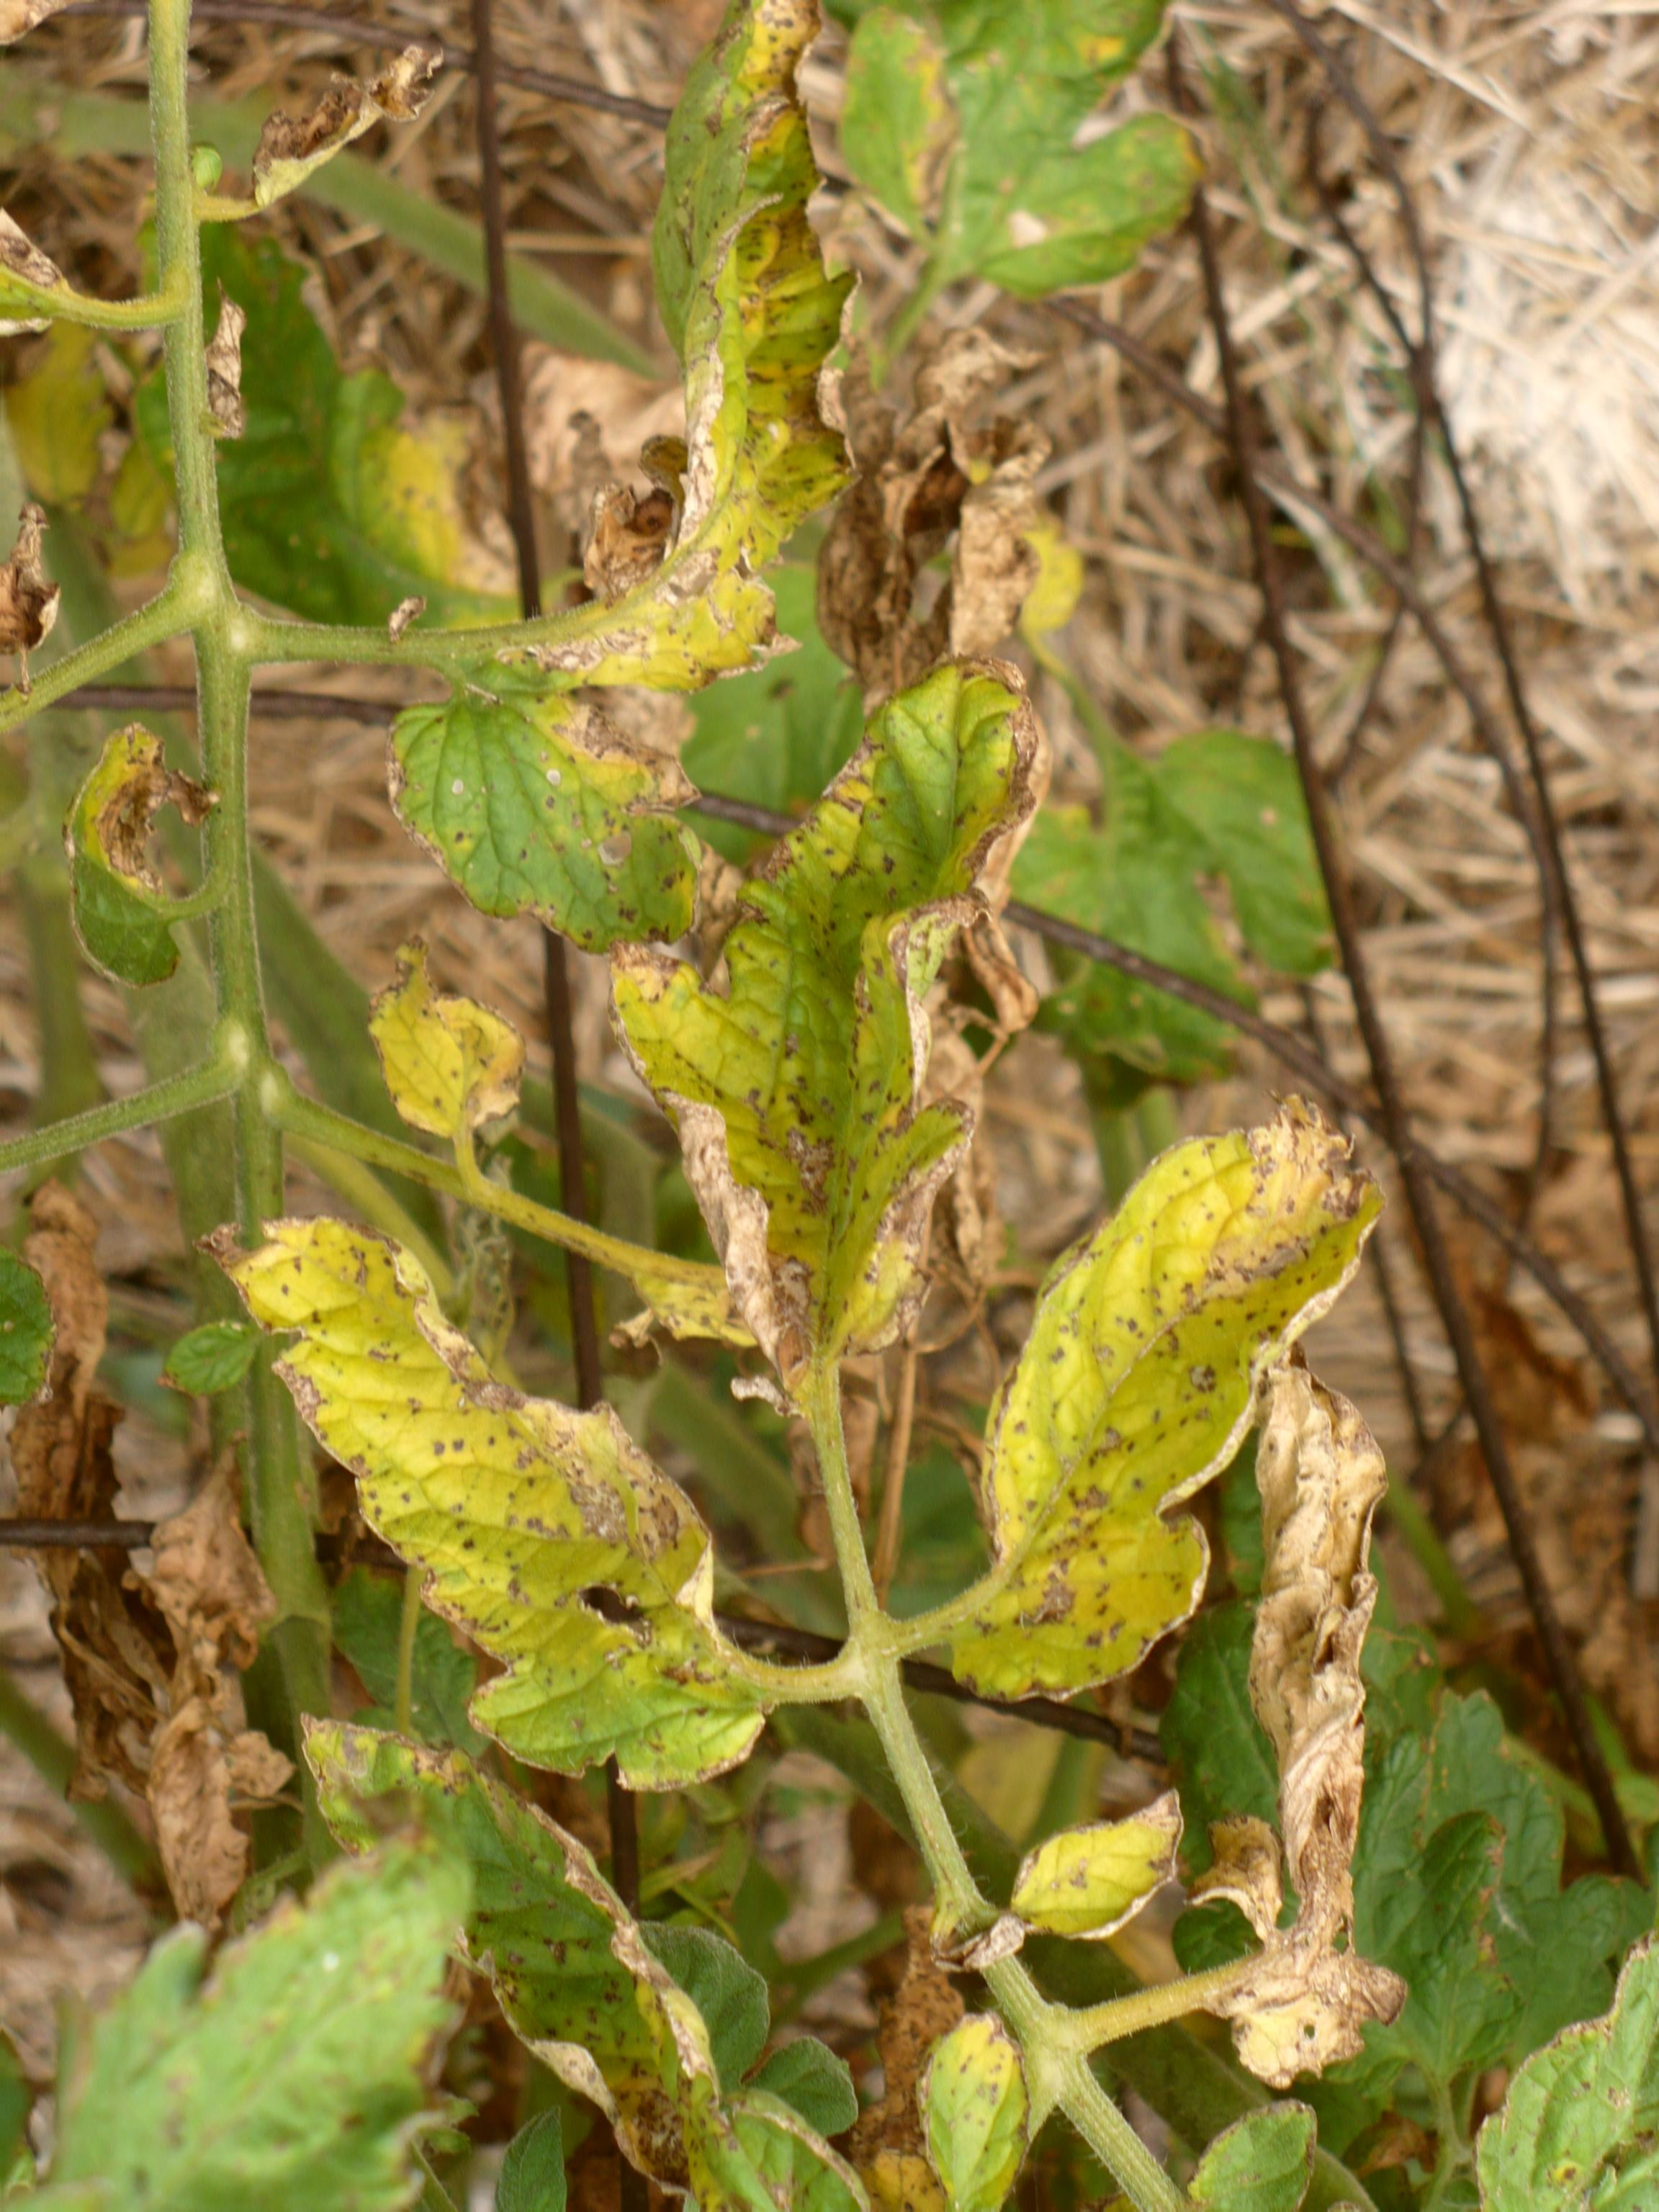Tomato Septoria leaf spot: (303, 17, 864, 918), (176, 1177, 809, 1804), (594, 679, 1066, 1367), (908, 1108, 1333, 1714)
